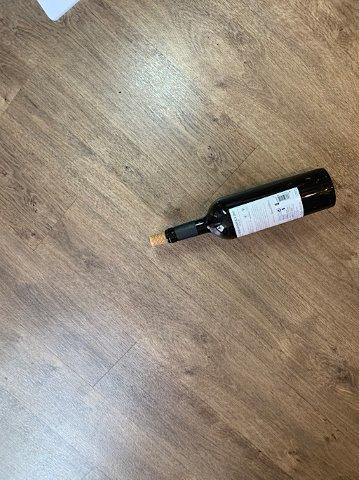botolkaca: (165, 168, 338, 242)
